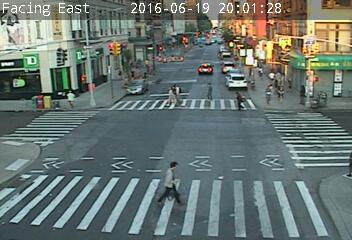neg: (183, 142, 217, 188), (57, 132, 81, 165), (251, 158, 272, 186), (314, 22, 335, 49), (263, 28, 280, 50), (297, 29, 313, 51), (224, 37, 239, 58), (173, 45, 186, 63), (202, 51, 215, 68)
pos: (150, 156, 190, 210), (256, 82, 275, 107), (229, 88, 247, 112), (295, 83, 313, 107), (61, 88, 79, 111), (275, 82, 292, 104), (203, 80, 218, 101), (254, 61, 268, 79)
